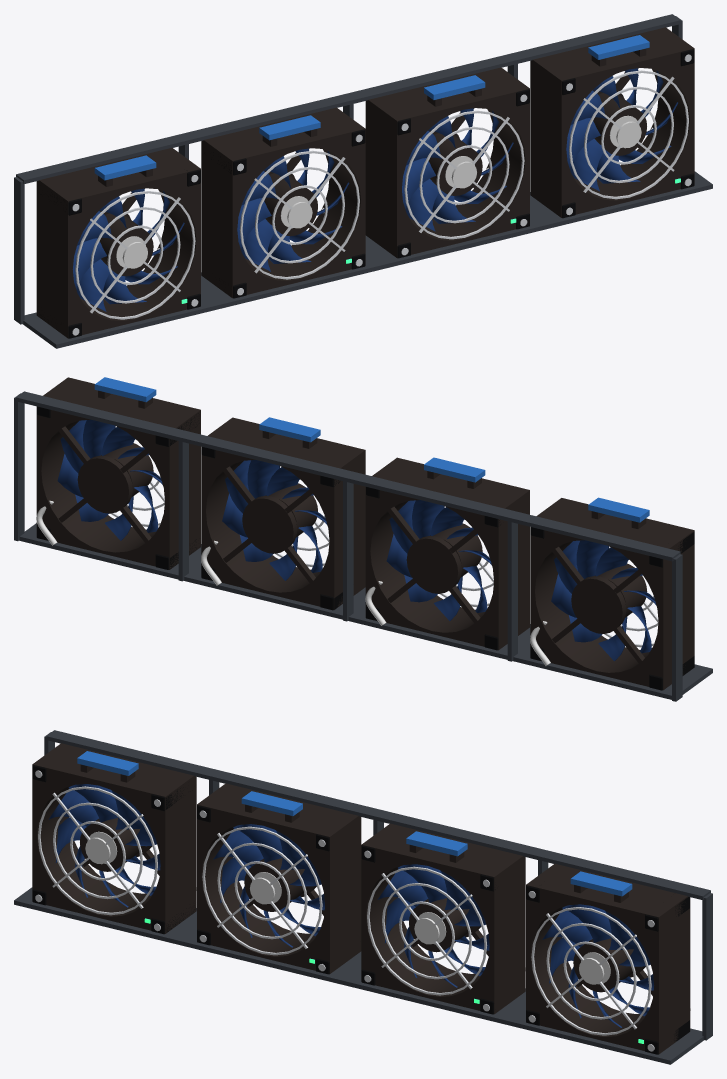
The model's file is hwm_cool_ducted_shroud.glb.
The picture shows the model from 3 angles, top to bottom: view 1: azimuth 30°, elevation 25°; view 2: azimuth 150°, elevation 25°; view 3: azimuth 330°, elevation 25°; orthographic projection.
Visible parts, largest first — view 1: Body, Rotor_Z_0, Rotor_Z_3, Rotor_Z_1, Rotor_Z_2; view 2: Body, Rotor_Z_0, Rotor_Z_2, Rotor_Z_3, Rotor_Z_1; view 3: Body, Rotor_Z_3, Rotor_Z_1, Rotor_Z_0, Rotor_Z_2.
Boxes of the visible parts, x1,y1,x2,y2 form: Body: (14,14,712,348); Rotor_Z_0: (72,188,184,311); Rotor_Z_3: (566,68,677,191); Rotor_Z_1: (237,148,349,271); Rotor_Z_2: (402,108,513,231); Body: (14,377,712,701); Rotor_Z_0: (551,540,656,661); Rotor_Z_2: (222,460,327,580); Rotor_Z_3: (57,419,162,540); Rotor_Z_1: (386,500,491,620); Body: (14,730,712,1064); Rotor_Z_3: (542,904,654,1027); Rotor_Z_1: (213,824,324,947); Rotor_Z_0: (48,784,160,907); Rotor_Z_2: (377,864,489,987).
Bounding box in the file's own units: 0.4628 × 0.1033 × 0.049.
